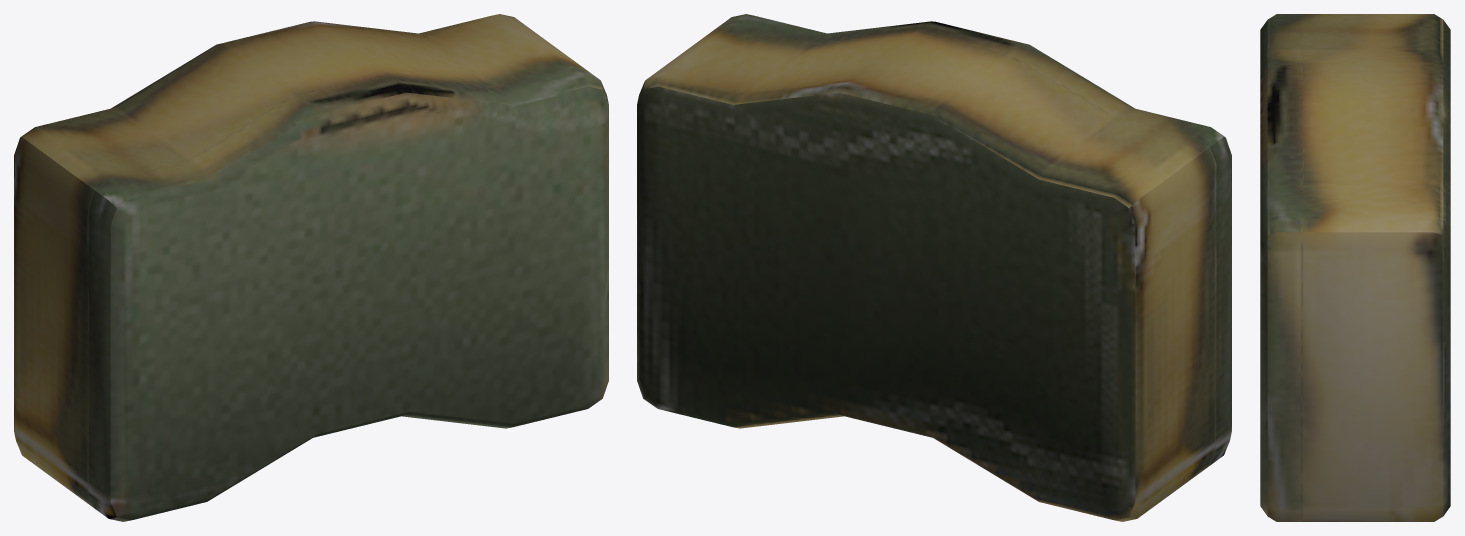
Rendered from textured.vis.glb.
3 renders of one model, left to right at view 1: azimuth 30°, elevation 25°; view 2: azimuth 150°, elevation 25°; view 3: azimuth 270°, elevation 25°, orthographic. The views are drawn at different scales.
Visible parts, largest first — view 1: Sponge_Sponge_0_001-mesh; view 2: Sponge_Sponge_0_001-mesh; view 3: Sponge_Sponge_0_001-mesh.
Boxes of the visible parts, x1,y1,x2,y2 form: Sponge_Sponge_0_001-mesh: [14, 14, 608, 521]; Sponge_Sponge_0_001-mesh: [637, 14, 1231, 521]; Sponge_Sponge_0_001-mesh: [1260, 14, 1450, 521].
Size of the model in its own units: 0.1 by 0.07 by 0.036.
1 material, 1 textured.
